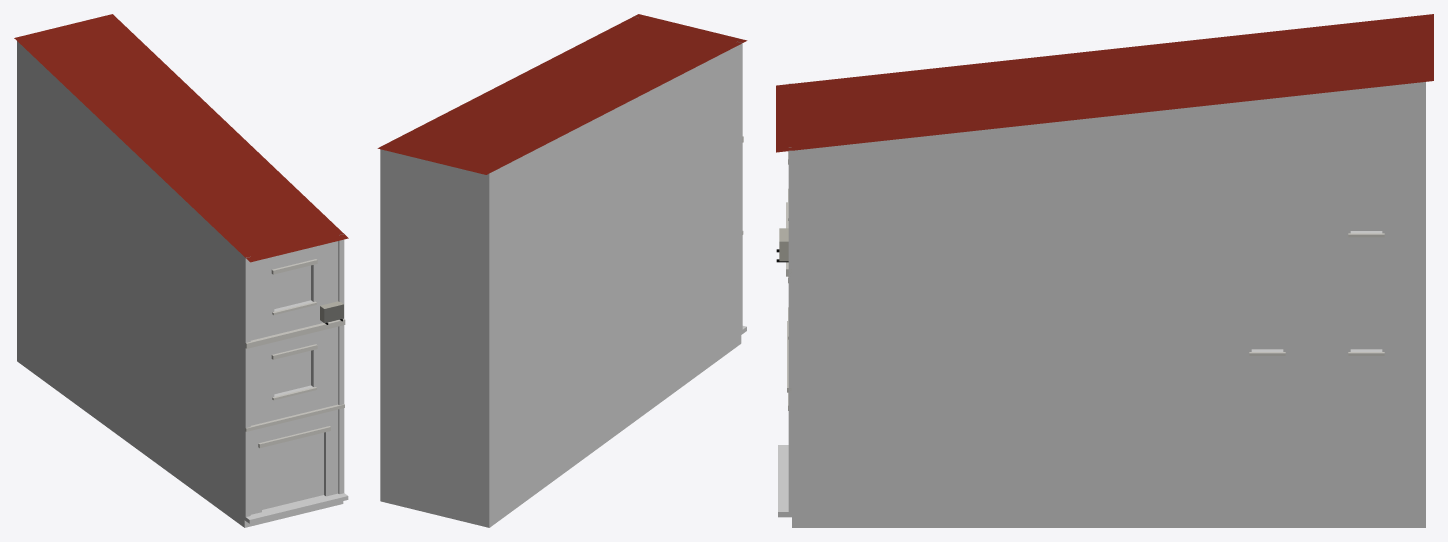
3 views of the same model, side by side, from view 1: azimuth 30°, elevation 25°; view 2: azimuth 150°, elevation 25°; view 3: azimuth 270°, elevation 25° (orthographic). The views are drawn at different scales.
Visible parts, largest first — view 1: TH_D16_R_21_LOD0; view 2: TH_D16_R_21_LOD0; view 3: TH_D16_R_21_LOD0.
Boxes of the visible parts, x1,y1,x2,y2 form: TH_D16_R_21_LOD0: (14, 14, 348, 527); TH_D16_R_21_LOD0: (377, 14, 747, 527); TH_D16_R_21_LOD0: (776, 14, 1433, 527).
Size of what is drawn, in the model's own units: 4.08 by 12.44 by 16.6.
